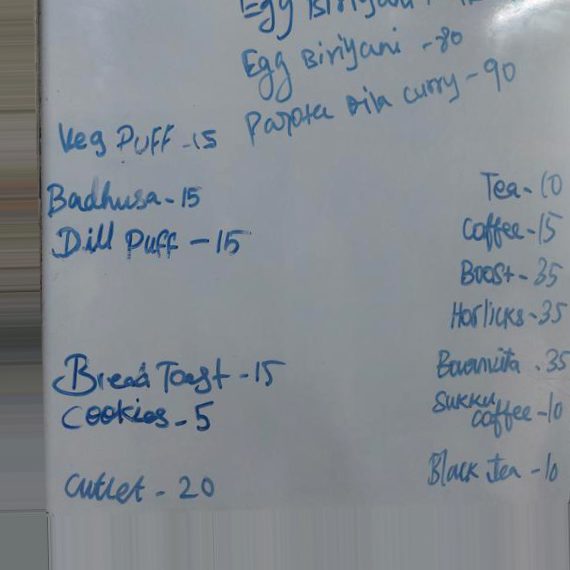Tea - 10: (473, 164, 570, 206)
badhusa -15: (46, 177, 208, 216)
black tea - 10: (423, 445, 570, 492)
boost - 35: (455, 251, 570, 290)
bournvita - 35: (432, 344, 570, 385)
bread toast - 15: (49, 340, 290, 402)
coffee - 15: (460, 213, 568, 247)
cookies - 5: (58, 399, 228, 436)
cutlet - 20: (62, 466, 228, 510)
dill puff - 15: (49, 222, 262, 267)
egg briyani - 80: (234, 23, 407, 85)
horlicks - 35: (450, 294, 570, 336)
parotta - 90: (239, 87, 464, 141)
sukku coffee - 10: (433, 387, 570, 434)
veg puff - 15: (52, 117, 224, 166)
